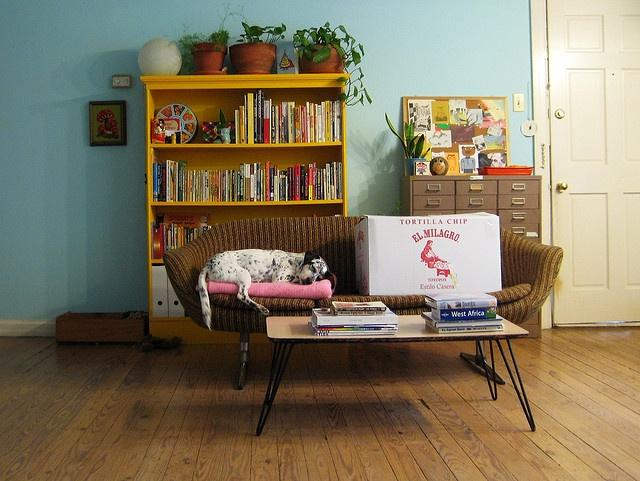Meja: (252, 314, 535, 436)
Rak: (145, 85, 347, 259), (408, 176, 540, 244)
